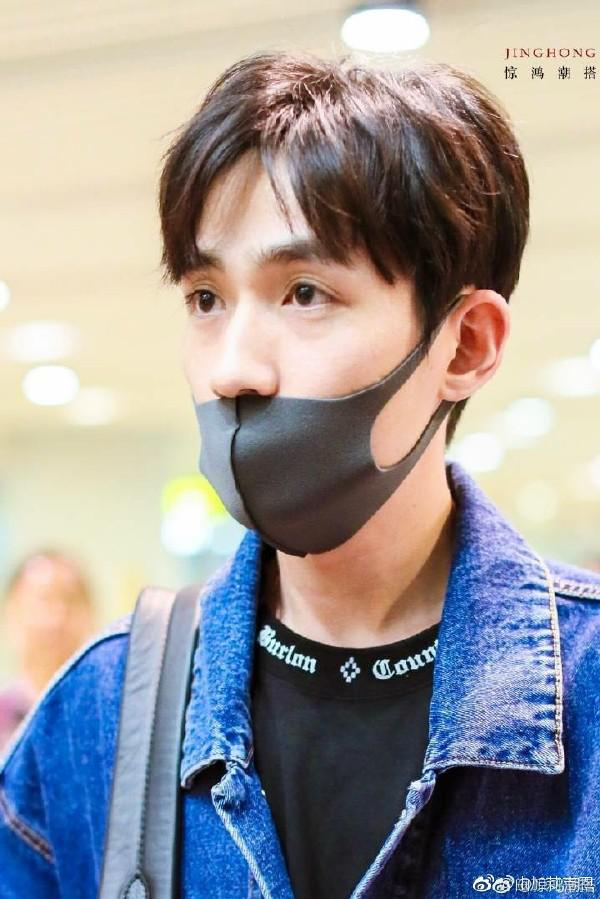WRONG: (185, 202, 433, 550)
